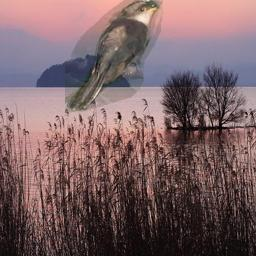Cuckoo: (65, 0, 163, 114)
